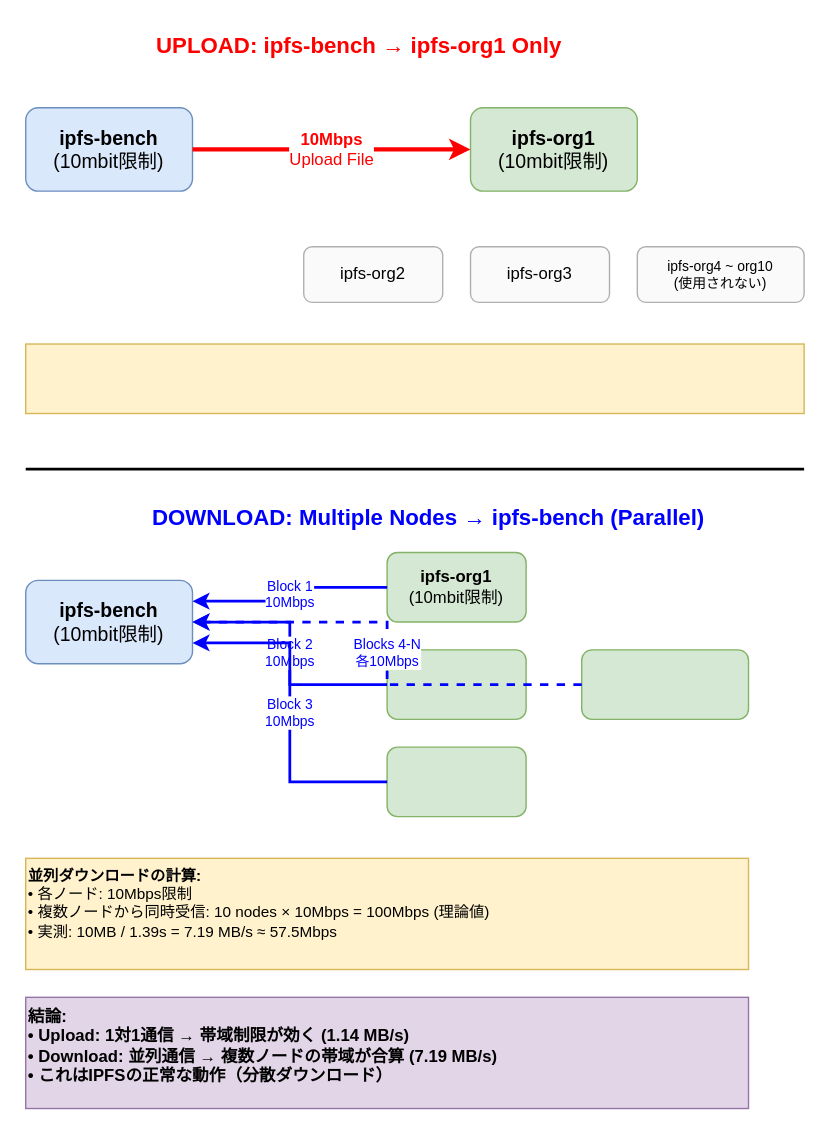
This 830x1133 diagram has some shape labels left out. Here are the shapes that lost their labels. From the top down, the centre of each, then its label:
pixel 414 378: ✓ アップロード速度: 10MB / 8.78s = 1.14 MB/s ✓ 制限が正しく効いている (10Mbps = 1.25 MB/s理論値)
pixel 456 683: ipfs-org2 (10mbit限制)
pixel 664 683: ipfs-org4 ~ org10 (各10mbit限制)
pixel 456 781: ipfs-org3 (10mbit限制)
